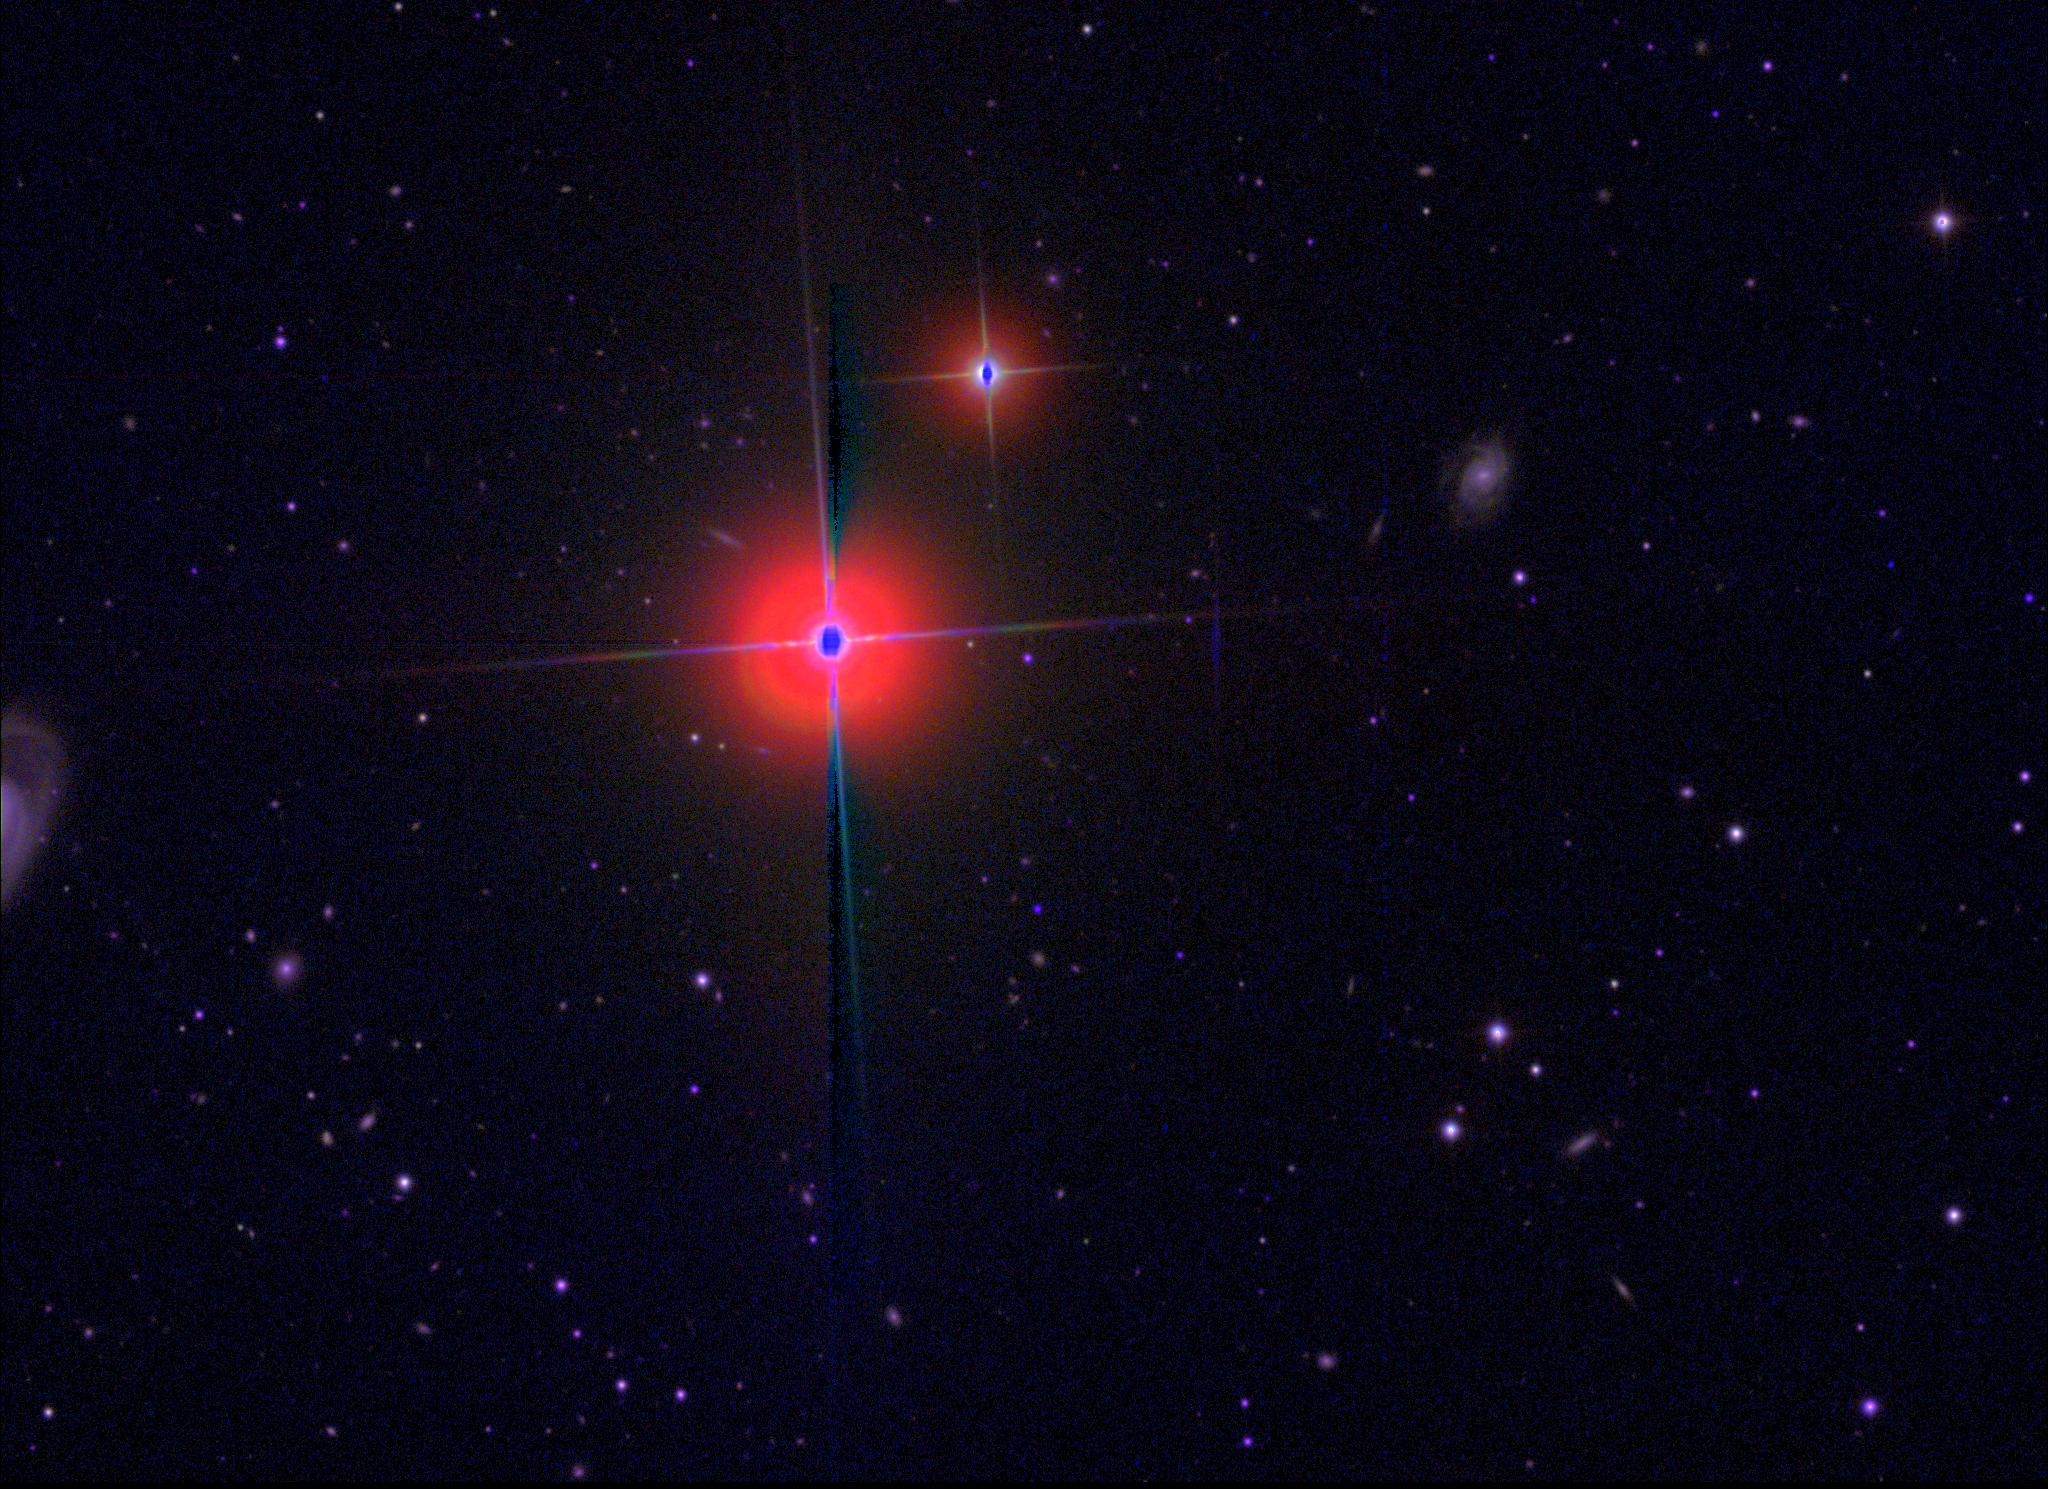L: (1884, 558, 1899, 573)
